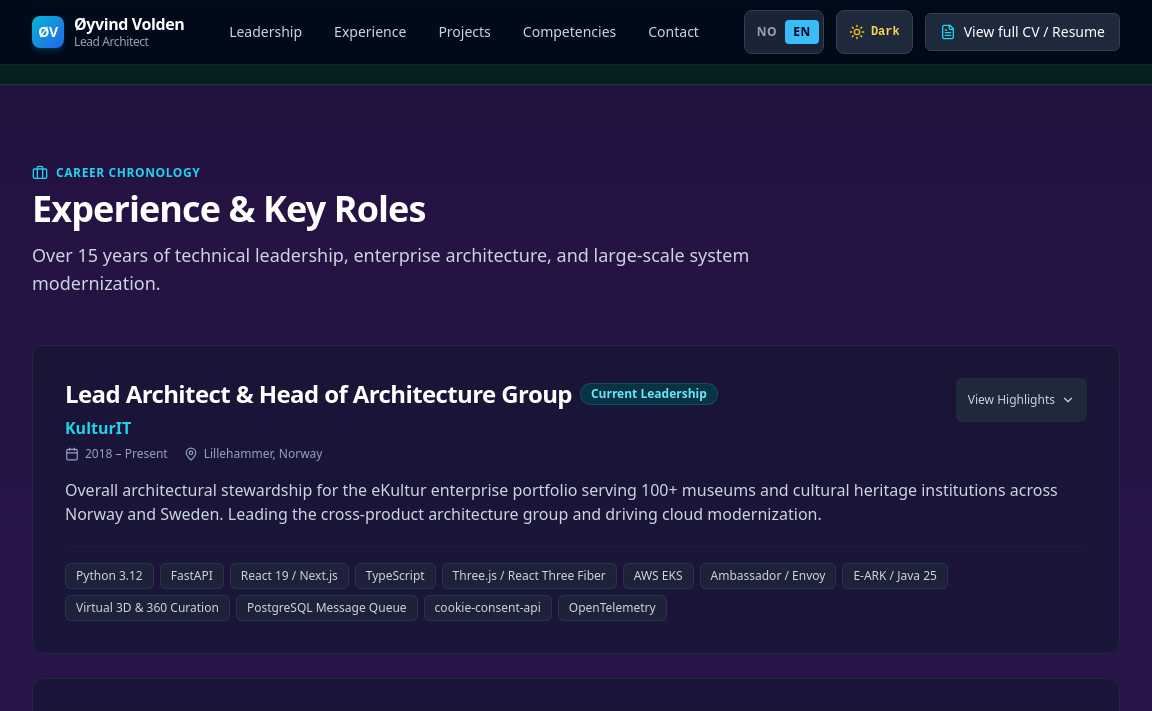
Test case: KulturIT UX & Accessibility Audit - Modern Minimalist Zero-3D Architecture › 4. ARIA Parity & Assistive Technology Feedback › manages aria-expanded and aria-controls on milestone details
The image size is (1152, 711).
(page scrolled)
Click the button "View Highlights" in the row of "Current Leadership": (1021,400) [956,378,1087,422]
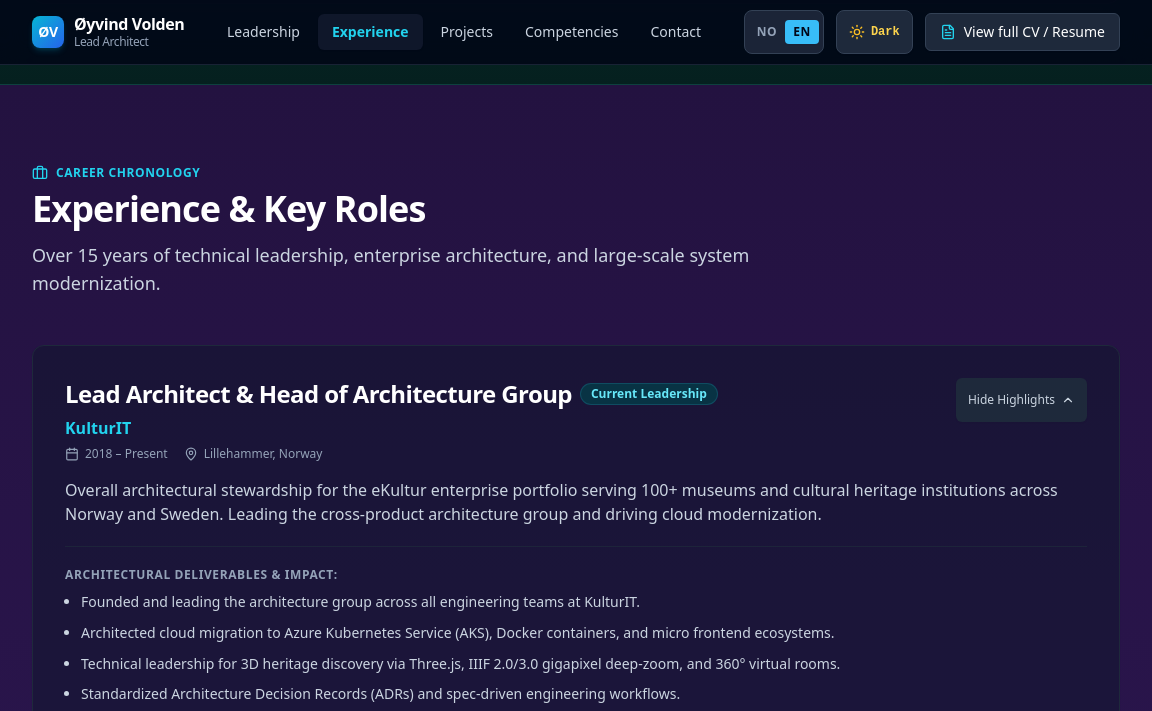
Now the button named "view highlights" is expanded, box [956,378,1087,422]
